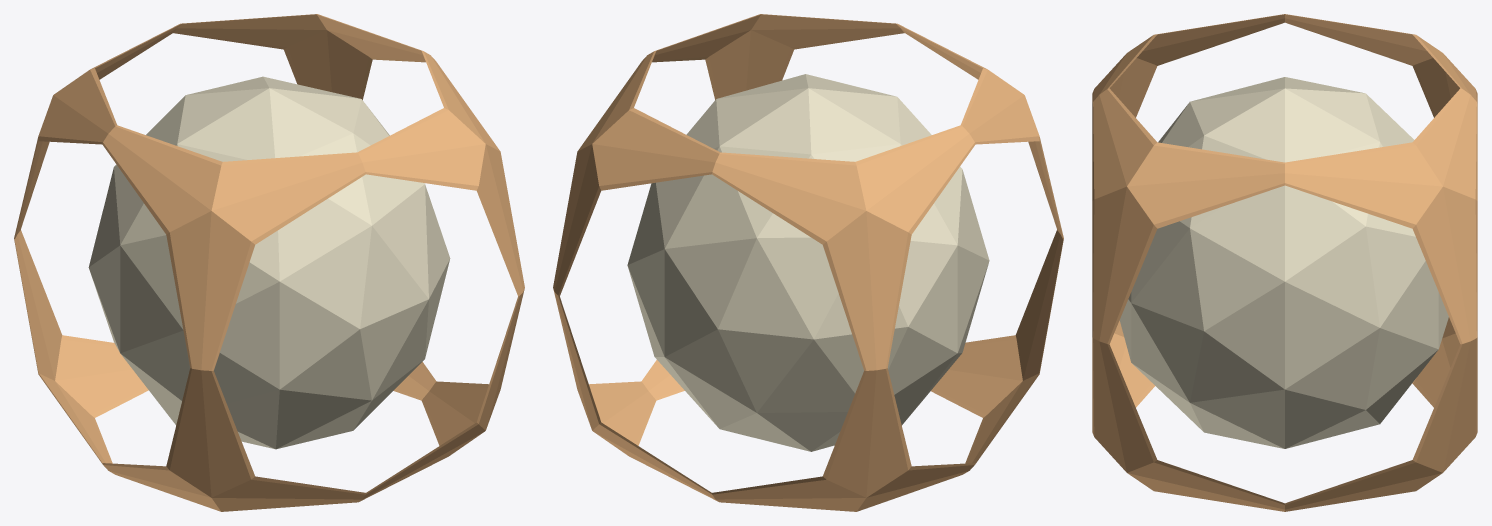
Rendered from Shielded Core.fbx.
3 renders of one model, left to right at view 1: azimuth 30°, elevation 25°; view 2: azimuth 150°, elevation 25°; view 3: azimuth 270°, elevation 25°, orthographic.
Visible parts, largest first — view 1: Cube, Icosphere; view 2: Cube, Icosphere; view 3: Icosphere, Cube.
Part boxes in pixels (bbox=[...]): Cube: bbox=[14, 14, 524, 511]; Icosphere: bbox=[88, 76, 450, 449]; Cube: bbox=[553, 14, 1063, 511]; Icosphere: bbox=[627, 74, 989, 451]; Icosphere: bbox=[1119, 77, 1448, 448]; Cube: bbox=[1092, 14, 1477, 511].
Size of the model in its own units: 2 by 2 by 2.
